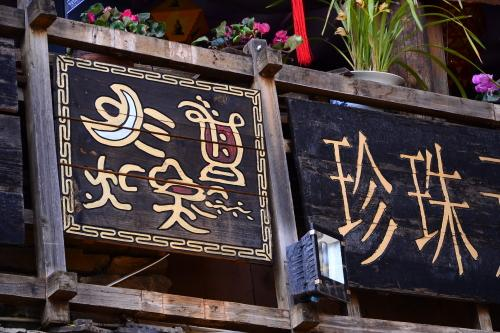chinese: (311, 126, 485, 275)
naxi: (72, 74, 259, 236)
